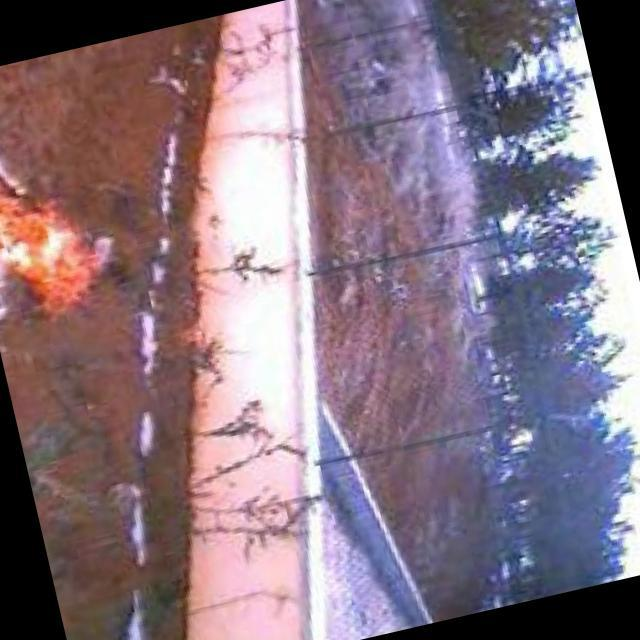Fire: (1, 144, 116, 331)
